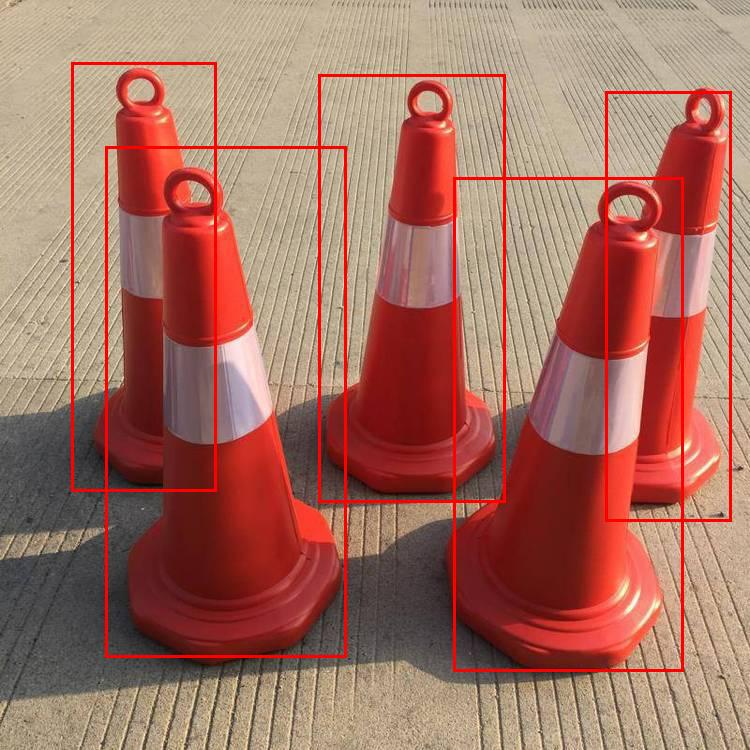traffic_cone: (110, 169, 347, 663), (479, 181, 688, 693), (343, 68, 504, 497), (81, 58, 235, 485), (595, 76, 729, 521)
